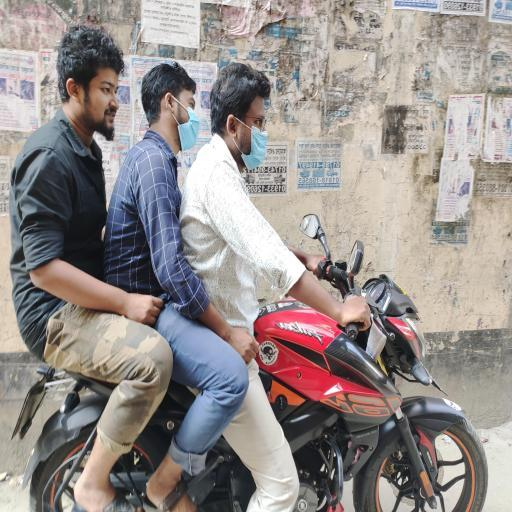no helmet: (195, 40, 298, 193)
triple riding: (0, 23, 482, 512)
